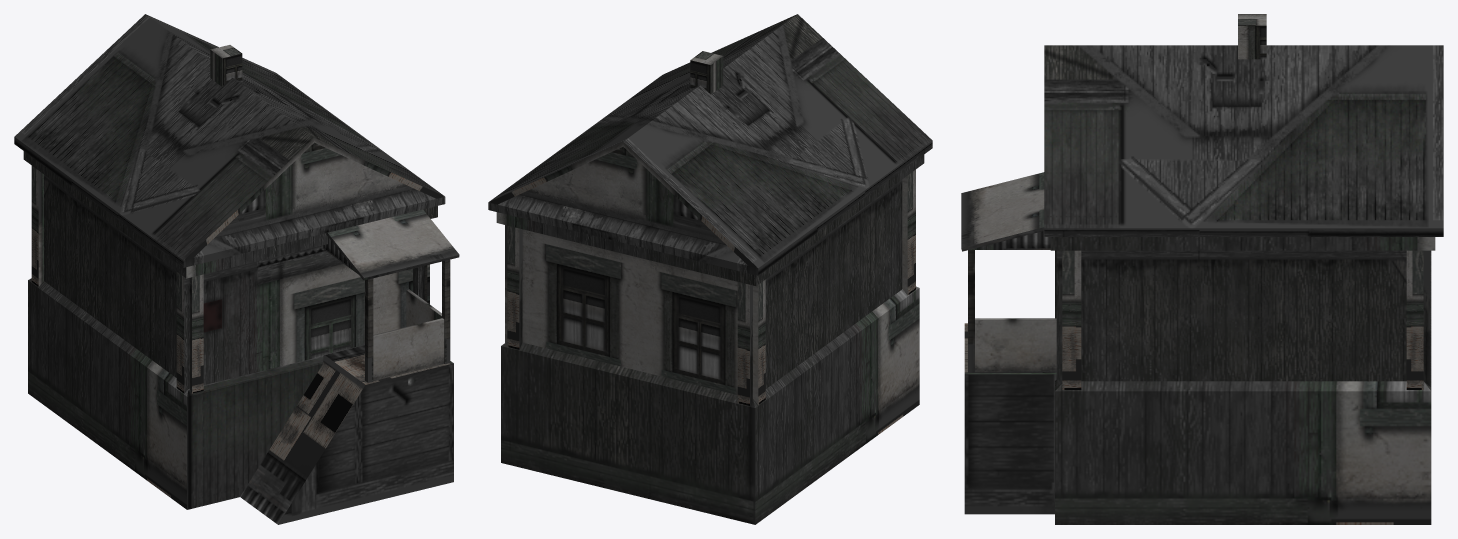
Rendered from RurHut_05.FBX.
3 views of the same model, side by side, from view 1: azimuth 30°, elevation 25°; view 2: azimuth 150°, elevation 25°; view 3: azimuth 270°, elevation 25° (orthographic). The views are drawn at different scales.
Visible parts, largest first — view 1: hut; view 2: hut; view 3: hut.
Part boxes in pixels (x1,y1,x2,y2): hut: (14, 14, 459, 524); hut: (488, 14, 932, 524); hut: (961, 14, 1443, 524).
Size of the model in its own units: 6.34 by 8.49 by 8.56.
